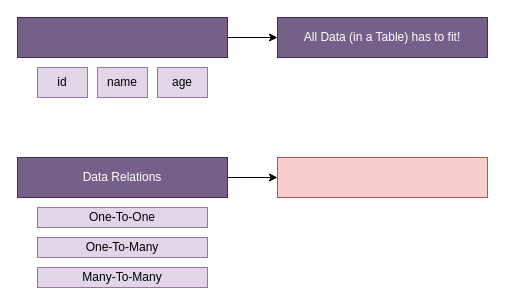
Some shapes in this 505 by 305 pixel diagram are drawn without their labels. Here are the shapes that lost their labels. From the top down, the box of each, then its label:
(16, 16, 228, 58): Data Schema
(276, 156, 488, 198): Tables are connected!
